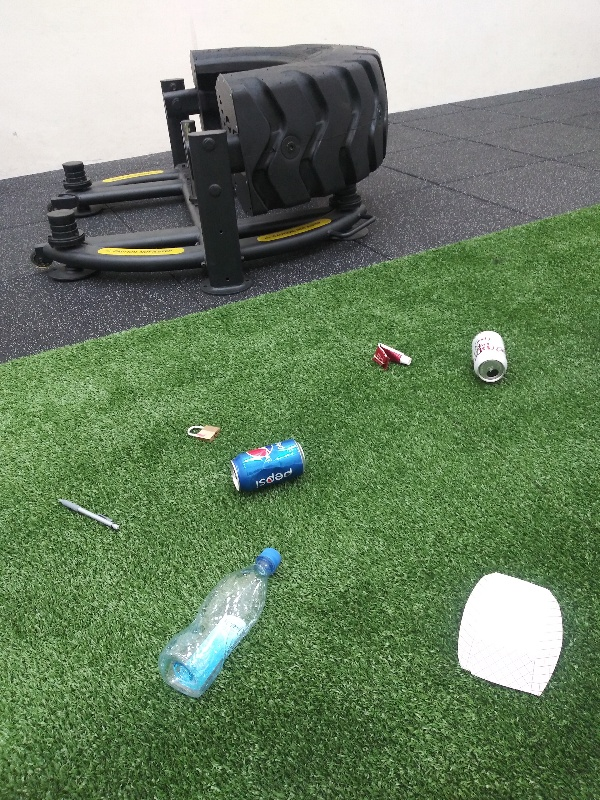bottle: (151, 542, 286, 700)
can: (223, 436, 312, 500), (468, 328, 510, 384)
plate: (453, 566, 565, 701)
